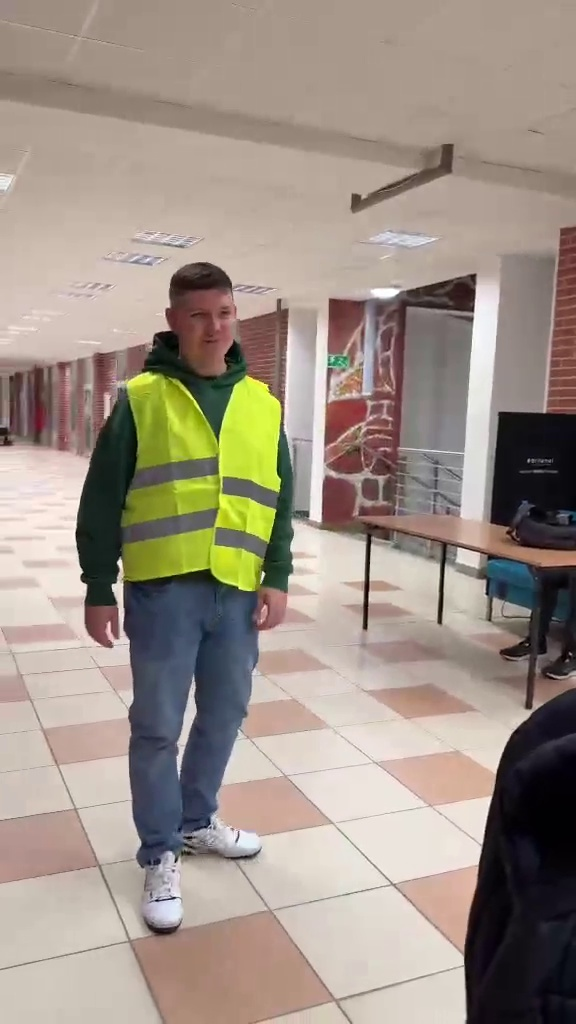vest: (74, 267, 304, 949)
